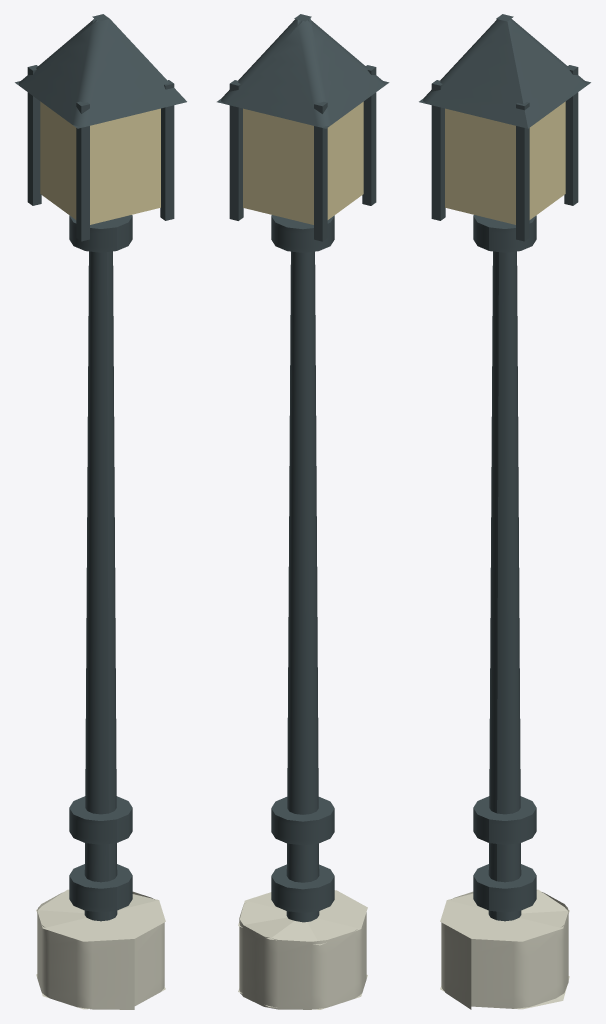
The model's file is civic_lamp.glb.
The picture shows the model from 3 angles, left to right: view 1: azimuth 30°, elevation 25°; view 2: azimuth 150°, elevation 25°; view 3: azimuth 330°, elevation 25°; orthographic projection.
Visible parts, largest first — view 1: SourceMesh_00001, SourceMesh_00000, SourceMesh_00005, SourceMesh_00010, SourceMesh_00003, SourceMesh_00002, SourceMesh_00007, SourceMesh_00004, SourceMesh_00009, SourceMesh_00006; view 2: SourceMesh_00001, SourceMesh_00000, SourceMesh_00005, SourceMesh_00010, SourceMesh_00003, SourceMesh_00002, SourceMesh_00006, SourceMesh_00008, SourceMesh_00004, SourceMesh_00007; view 3: SourceMesh_00001, SourceMesh_00000, SourceMesh_00005, SourceMesh_00010, SourceMesh_00003, SourceMesh_00002, SourceMesh_00007, SourceMesh_00004, SourceMesh_00009, SourceMesh_00008.
Part boxes in pixels (box(x1,y1,x2,y2)): SourceMesh_00001: box(84, 251, 117, 921); SourceMesh_00000: box(36, 889, 165, 1009); SourceMesh_00005: box(40, 101, 160, 224); SourceMesh_00010: box(15, 14, 186, 128); SourceMesh_00003: box(69, 796, 132, 844); SourceMesh_00002: box(69, 864, 132, 912); SourceMesh_00007: box(76, 101, 89, 241); SourceMesh_00004: box(69, 215, 132, 252); SourceMesh_00009: box(160, 80, 174, 220); SourceMesh_00006: box(27, 65, 41, 205); SourceMesh_00001: box(286, 251, 319, 922); SourceMesh_00000: box(238, 890, 367, 1009); SourceMesh_00005: box(243, 101, 363, 224); SourceMesh_00010: box(217, 14, 389, 128); SourceMesh_00003: box(271, 797, 334, 845); SourceMesh_00002: box(271, 864, 334, 912); SourceMesh_00006: box(314, 101, 327, 241); SourceMesh_00008: box(229, 80, 243, 220); SourceMesh_00004: box(271, 215, 334, 252); SourceMesh_00007: box(362, 65, 376, 205); SourceMesh_00001: box(488, 251, 521, 921); SourceMesh_00000: box(440, 889, 569, 1009); SourceMesh_00005: box(445, 101, 565, 224); SourceMesh_00010: box(419, 14, 590, 128); SourceMesh_00003: box(473, 796, 536, 844); SourceMesh_00002: box(473, 864, 536, 912); SourceMesh_00007: box(431, 80, 445, 220); SourceMesh_00004: box(473, 215, 536, 252); SourceMesh_00009: box(516, 102, 529, 241); SourceMesh_00008: box(564, 65, 578, 205).
Bounding box in the file's own units: 0.36 × 2.86 × 0.36.
